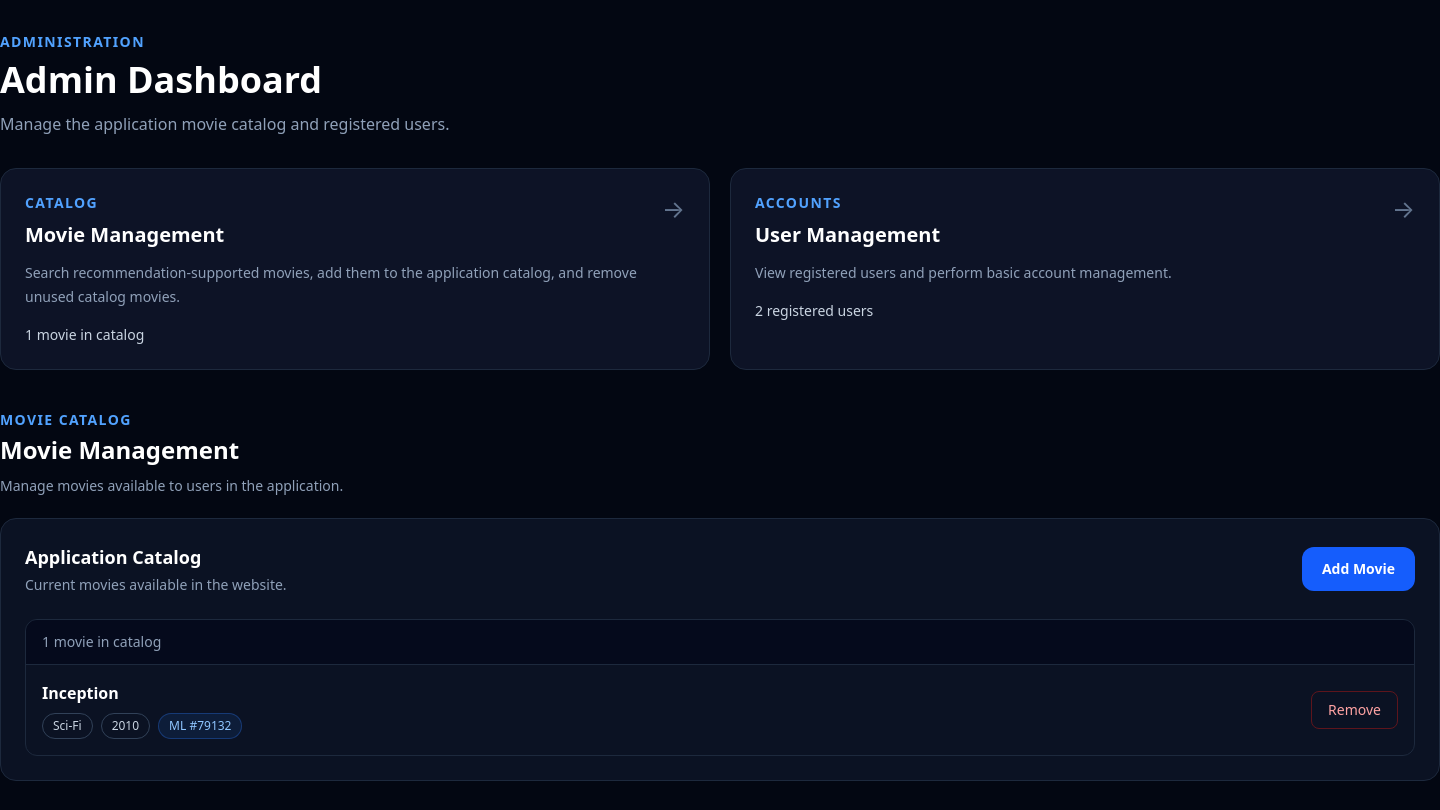
AdminDashboard › shows movie deletion error returned by backend
This screenshot has width=1440, height=810.
Expected: the link "Inception" is shown, [42,682,119,704]
Click the button "Remove".
click(1355, 710)  # box [1311,691,1398,729]
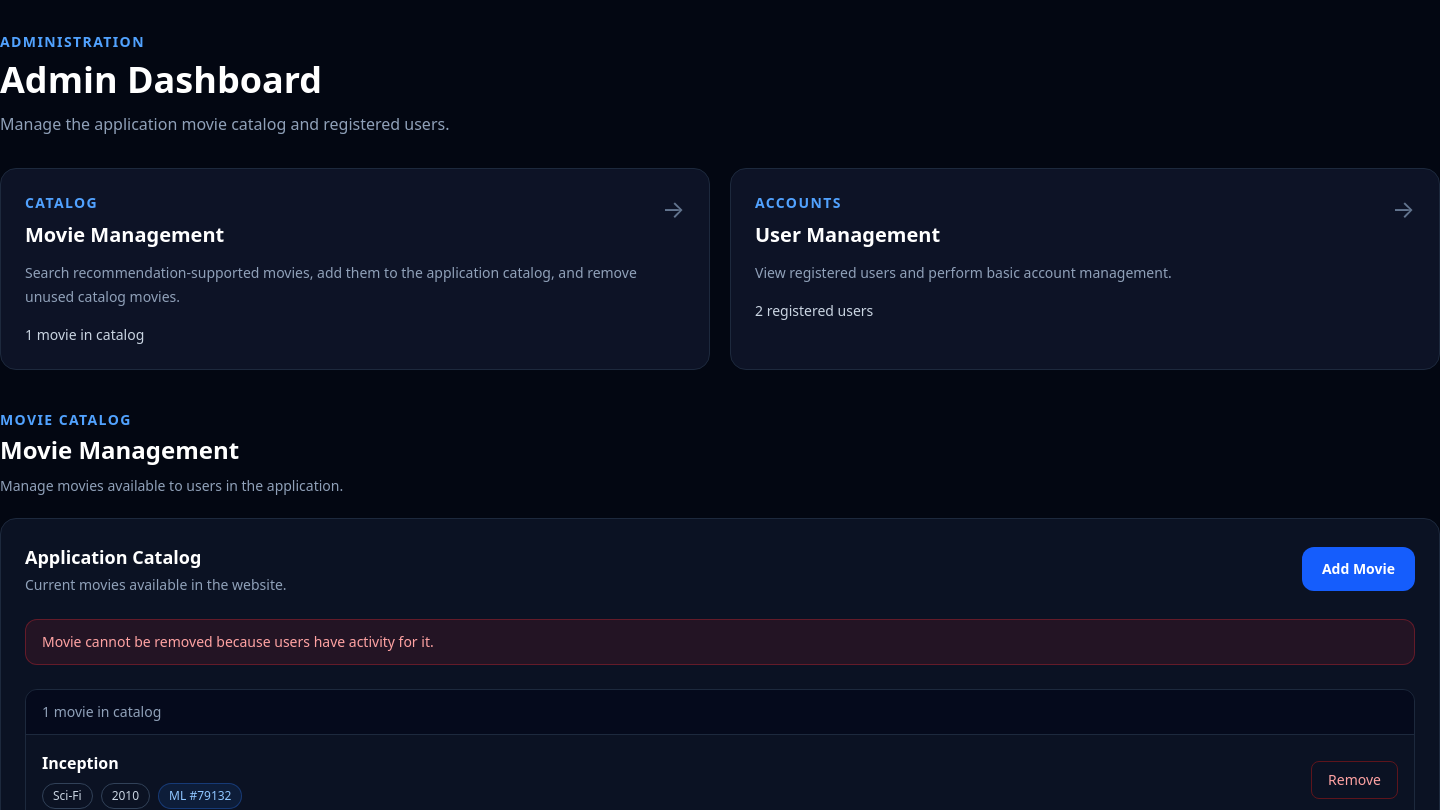
Expected: the link "Inception" is shown, [42,752,119,774]
Expected: the text "Movie cannot be removed because users have activity for it." is shown, [42,632,434,651]
